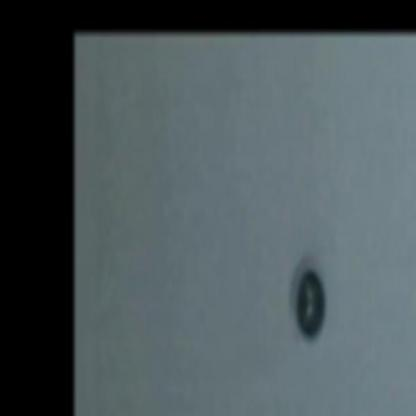light_off: (281, 235, 334, 365)
